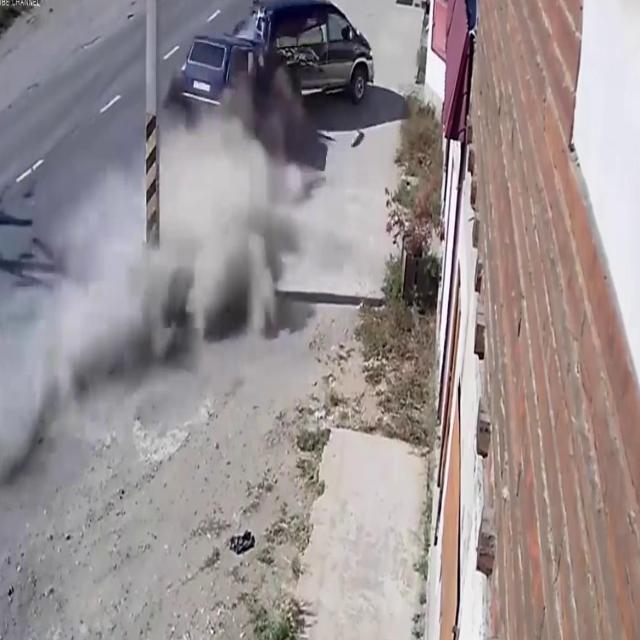accident: (164, 0, 377, 244)
